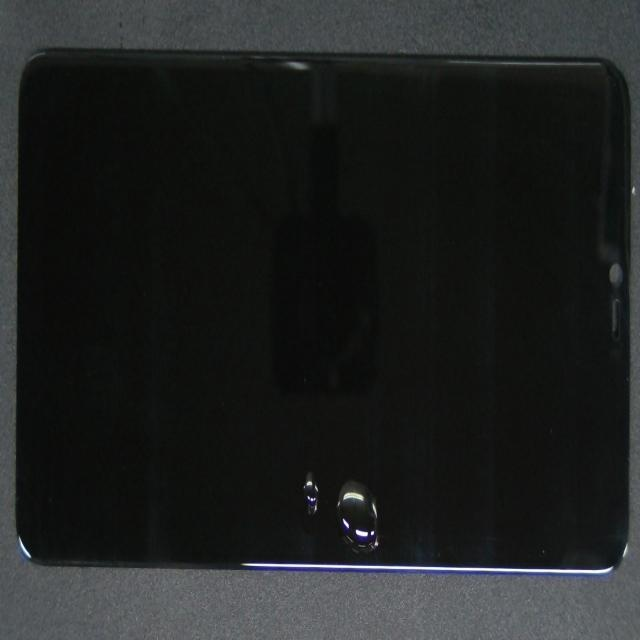oil: (169, 216, 506, 640), (169, 213, 469, 640)
